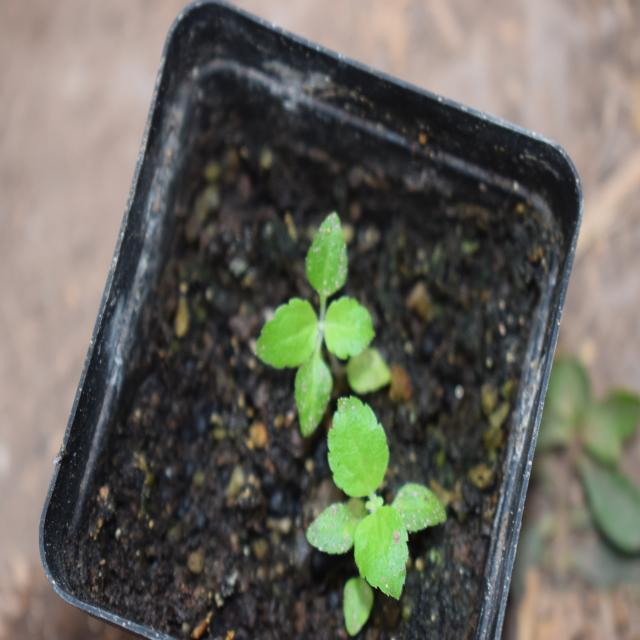billygoat_weed: (243, 216, 375, 436), (311, 390, 432, 620)
